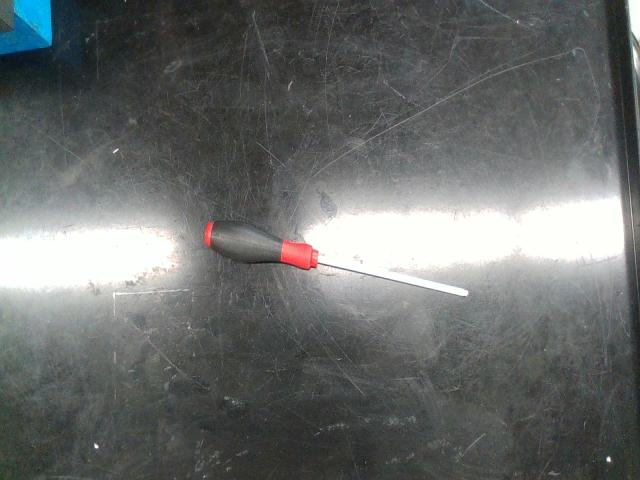Screwdriver: (205, 222, 469, 297)
